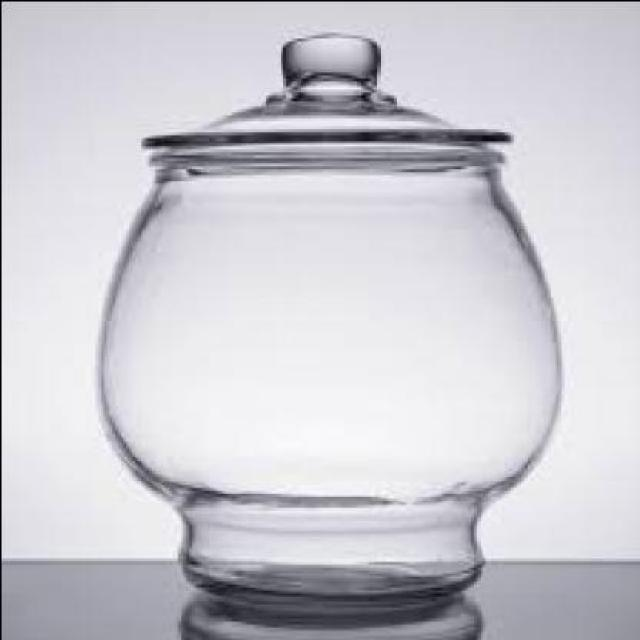GLASS: (102, 29, 564, 598)
